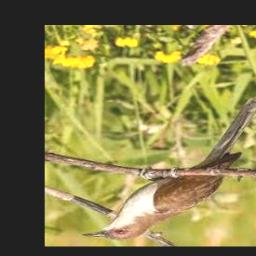Cuckoo: (82, 94, 256, 240)
